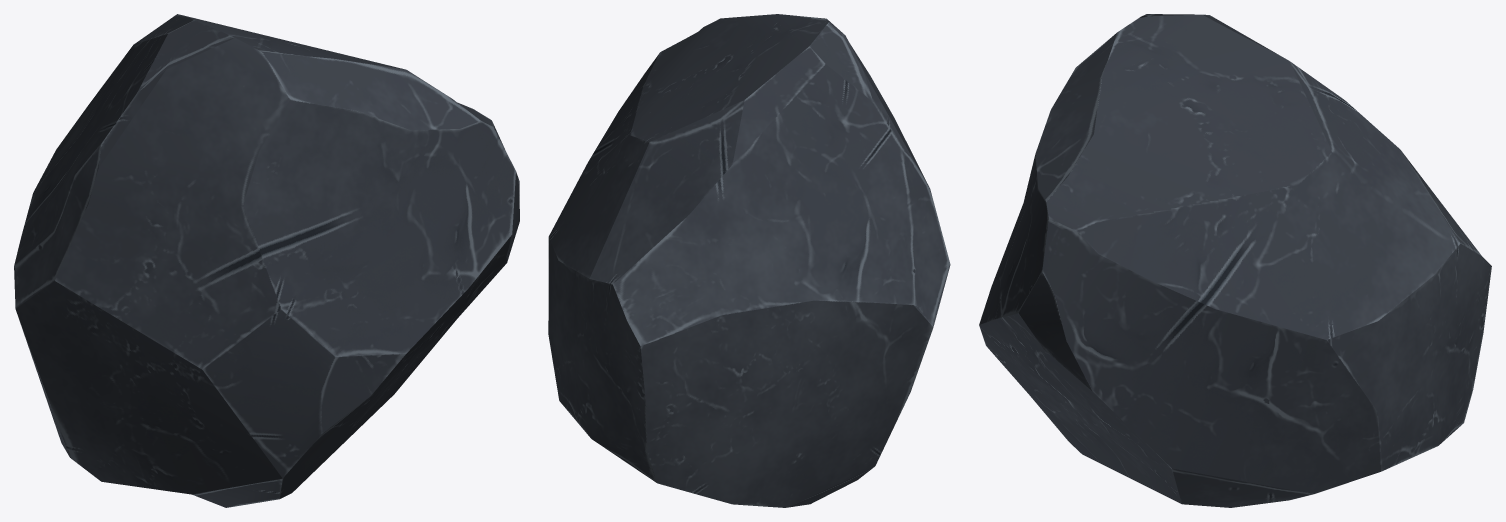
Rendered from stylizedrock.fbx.
The picture shows the model from 3 angles, left to right: view 1: azimuth 30°, elevation 25°; view 2: azimuth 150°, elevation 25°; view 3: azimuth 270°, elevation 25°; orthographic projection. The views are drawn at different scales.
Parts seen in each view (by area): view 1: lp; view 2: lp; view 3: lp.
Boxes of the visible parts, x1,y1,x2,y2 form: lp: [14, 14, 519, 507]; lp: [548, 14, 950, 507]; lp: [979, 14, 1491, 507].
Bounding box in the file's own units: 114 × 125 × 125.
